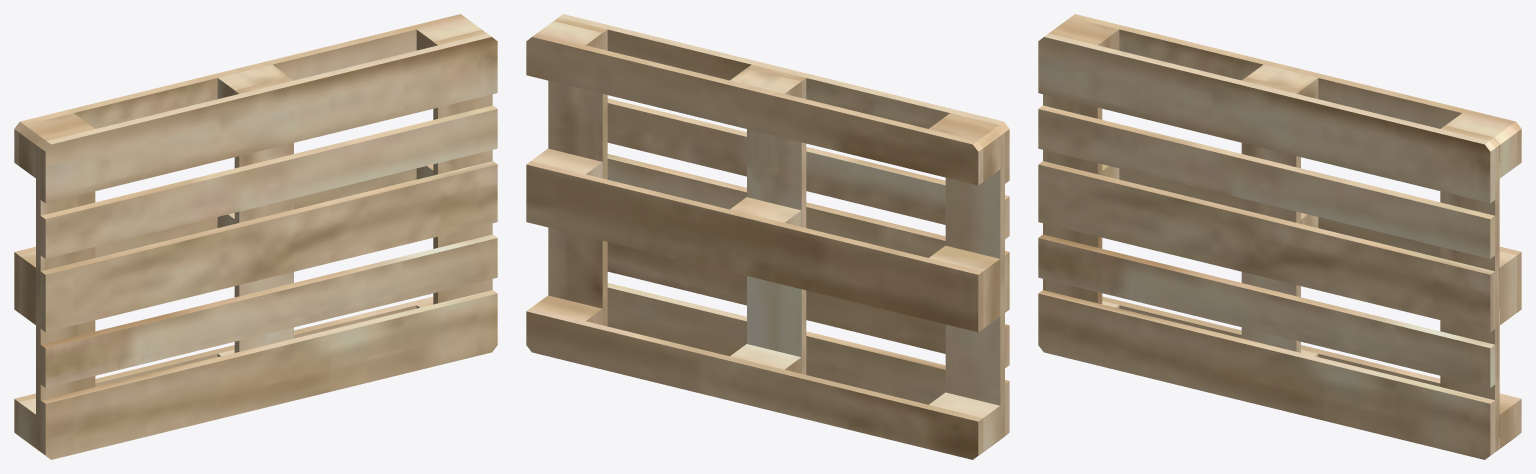
Rendered from euro_pallet.dae.
3 views of the same model, side by side, from view 1: azimuth 30°, elevation 25°; view 2: azimuth 150°, elevation 25°; view 3: azimuth 330°, elevation 25° (orthographic).
Visible parts, largest first — view 1: node; view 2: node; view 3: node.
Boxes of the visible parts, x1,y1,x2,y2 form: node: [14, 14, 497, 459]; node: [526, 14, 1009, 459]; node: [1038, 14, 1521, 459].
Size of the model in its own units: 1.2 by 0.8 by 0.144.
